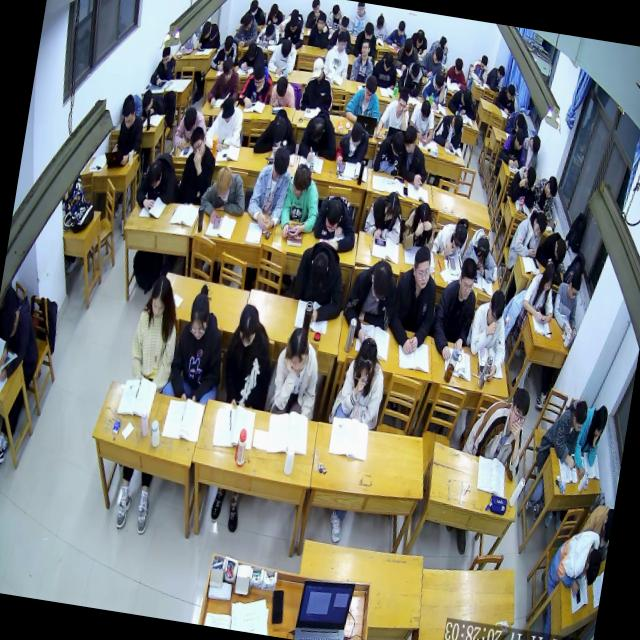bow: (288, 238, 352, 328), (197, 163, 250, 228), (310, 190, 362, 253), (132, 149, 180, 215), (296, 106, 342, 166), (252, 104, 302, 158), (460, 224, 504, 281), (430, 213, 470, 260), (535, 228, 569, 268), (446, 85, 481, 122), (268, 72, 299, 110), (139, 85, 169, 121), (236, 40, 266, 72), (504, 107, 532, 138), (255, 17, 282, 48)
down: (366, 256, 396, 304), (187, 286, 213, 341), (282, 326, 310, 374), (352, 334, 379, 381), (236, 301, 262, 348), (148, 275, 172, 321), (582, 546, 604, 588), (307, 250, 331, 288), (486, 288, 508, 329), (290, 163, 314, 200), (322, 193, 344, 233), (213, 163, 234, 200), (271, 146, 292, 182), (0, 304, 19, 341), (382, 188, 401, 222), (571, 397, 590, 431), (412, 202, 432, 234), (592, 400, 610, 434), (450, 221, 470, 251), (145, 160, 164, 190), (362, 74, 380, 104), (220, 92, 238, 122), (532, 209, 550, 239), (270, 116, 289, 144), (121, 100, 138, 130), (475, 232, 492, 262), (541, 262, 557, 293), (402, 123, 418, 153), (568, 268, 584, 298), (348, 121, 365, 149), (389, 128, 406, 156), (219, 52, 235, 80), (544, 174, 560, 202), (308, 116, 325, 142), (552, 235, 568, 262), (252, 64, 268, 90), (310, 56, 326, 82), (182, 104, 198, 130), (523, 165, 538, 191), (513, 124, 526, 150), (140, 90, 154, 114), (419, 99, 433, 123), (449, 114, 464, 136), (279, 38, 293, 61), (432, 70, 446, 93), (528, 134, 542, 157), (276, 74, 290, 96), (160, 44, 172, 68), (382, 50, 395, 72), (402, 36, 416, 56), (460, 86, 474, 106), (246, 41, 258, 64), (241, 10, 254, 31), (408, 62, 421, 82), (222, 32, 234, 53), (287, 10, 299, 31), (375, 10, 387, 31), (496, 61, 508, 82), (339, 12, 350, 34), (263, 22, 275, 42), (362, 20, 374, 40), (432, 44, 444, 64), (514, 110, 526, 130), (504, 82, 516, 102), (506, 158, 520, 174), (414, 28, 425, 48), (454, 54, 464, 76), (268, 0, 280, 18), (331, 2, 342, 19), (248, 0, 260, 15), (396, 20, 406, 38), (310, 0, 321, 15), (479, 55, 488, 72)
lookup: (507, 387, 533, 438), (410, 244, 434, 290), (456, 255, 478, 301), (187, 126, 207, 160), (395, 89, 410, 115), (334, 31, 348, 54), (315, 9, 328, 30), (359, 38, 372, 58), (356, 2, 366, 16)
sit: (162, 284, 232, 405), (460, 379, 532, 484), (125, 270, 187, 391), (382, 240, 443, 356), (217, 298, 280, 407), (428, 251, 484, 364), (330, 332, 392, 430), (268, 322, 326, 419), (340, 254, 400, 346), (462, 284, 516, 385), (244, 140, 296, 232), (544, 524, 606, 601), (0, 294, 47, 386), (278, 158, 325, 241), (176, 125, 221, 208), (571, 398, 610, 481), (547, 396, 588, 472), (202, 91, 247, 154), (518, 260, 560, 326), (298, 52, 340, 117), (395, 125, 435, 192), (549, 269, 586, 337), (342, 68, 386, 125), (363, 186, 407, 243), (113, 98, 147, 165), (374, 84, 414, 140), (400, 198, 440, 254), (512, 203, 550, 259), (237, 59, 276, 113), (206, 54, 243, 110), (335, 118, 372, 168), (371, 126, 406, 174), (528, 172, 560, 222), (322, 27, 354, 76), (407, 97, 439, 146), (498, 122, 530, 170), (507, 162, 540, 208), (149, 41, 179, 88), (431, 108, 466, 148), (349, 36, 378, 84), (266, 35, 299, 77), (420, 68, 450, 112), (209, 31, 241, 70), (369, 48, 400, 88), (396, 58, 426, 99), (353, 19, 380, 60), (279, 10, 308, 48), (232, 9, 260, 48), (392, 36, 422, 72), (306, 11, 332, 52), (419, 41, 446, 80), (444, 52, 472, 88), (494, 77, 521, 112), (348, 1, 372, 40), (196, 18, 224, 50), (520, 130, 542, 168), (239, 0, 268, 28), (384, 16, 409, 48), (469, 54, 490, 88), (486, 60, 508, 92), (372, 10, 392, 40), (305, 0, 324, 31), (410, 27, 430, 56), (265, 1, 285, 28), (200, 20, 212, 40)
